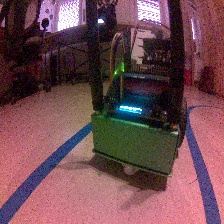rob: (89, 36, 188, 178)
